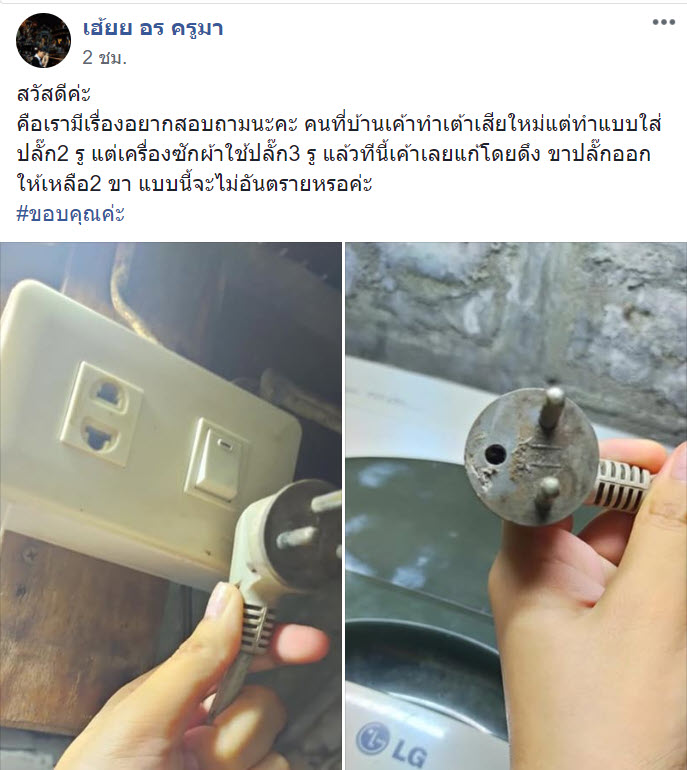Three_eye_plug: (4, 278, 311, 580)
